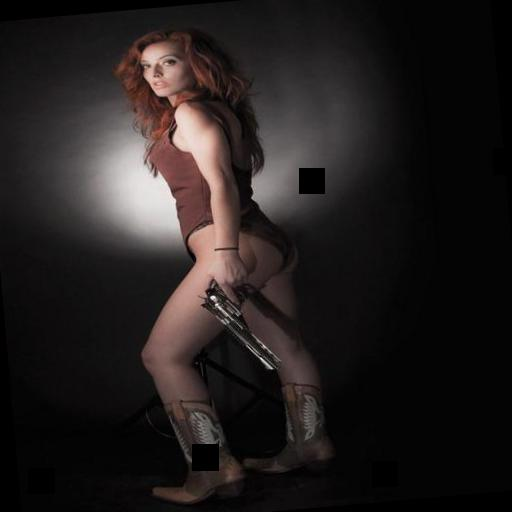Handgun: (190, 276, 296, 380)
